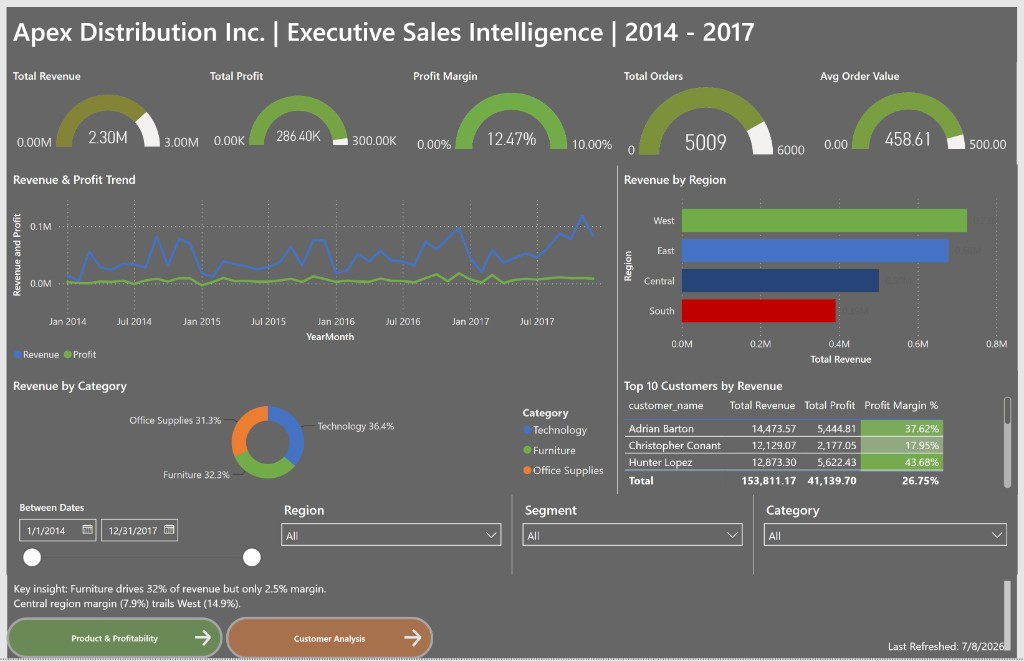

This screenshot's page, from the dashboard's own definition file:
{"tool":"powerbi","page":{"name":"Executive Overview","canvas":[1280,825],"ordinal":1},"visuals":[{"type":"cardVisual","title":"Total Revenue","fields":{"Data":["measure table.Total Revenue"]},"box":[9.7,80.2,245.1,128.7],"z":0},{"type":"cardVisual","title":"Total Revenue","fields":{"Data":["measure table.Total Profit"]},"box":[254.8,80.2,253.9,128.7],"z":1000},{"type":"cardVisual","title":"Total Revenue","fields":{"Data":["measure table.Profit Margin %"]},"box":[508.7,80.2,262.7,127.8],"z":2000},{"type":"cardVisual","title":"Total Revenue","fields":{"Data":["measure table.Total Orders"]},"box":[771.3,80.2,246,127.8],"z":2001},{"type":"cardVisual","title":"Total Revenue","fields":{"Data":["measure table.Avg Order Value"]},"box":[1017.3,80.2,253,128.7],"z":2002},{"type":"lineChart","title":"Revenue & Profit Trend","fields":{"Category":["Dim Date.YearMonth"],"Y":["measure table.Total Revenue","measure table.Total Profit"]},"box":[9.7,208,761.7,258.3],"z":2003},{"type":"clusteredBarChart","title":"Revenue by Region","fields":{"Category":["sales_executive.region"],"Y":["measure table.Total Revenue"]},"box":[771.3,208,499,258.3],"z":2004},{"type":"donutChart","title":"Revenue by Category","fields":{"Category":["sales_executive.category"],"Y":["measure table.Total Revenue"]},"box":[9.7,465.5,761.7,154.3],"z":2005},{"type":"tableEx","title":"Top 10 Customers by Revenue","fields":{"Values":["sales_executive.customer_name","measure table.Total Revenue","measure table.Total Profit","measure table.Profit Margin %"]},"box":[771.3,465.5,499,154.3],"z":2006},{"type":"slicer","fields":{"Values":["Dim Date.Date"]},"box":[9.7,619.7,329.7,100.5],"z":2007},{"type":"slicer","fields":{"Values":["sales_executive.region"]},"box":[339.4,619.7,300.6,100.5],"z":2008},{"type":"slicer","fields":{"Values":["sales_executive.segment"]},"box":[640,619.7,300.6,100.5],"z":2009},{"type":"slicer","fields":{"Values":["sales_executive.category"]},"box":[940.6,619.7,329.7,100.5],"z":2010},{"type":"textbox","box":[9.7,11.5,1260.6,68.8],"z":2011},{"type":"textbox","box":[10.2,720.3,1259.7,104.7],"z":2012},{"type":"actionButton","title":"Executive Overview","box":[9.3,774,269.7,51],"z":2013},{"type":"actionButton","title":"Executive Overview","box":[282.7,773.1,258.6,52.8],"z":2014}]}

Visuals, with their boxes in screenshot pixels (x1, y1, x2, y2), scaled from the page's 1280x825 canvas onto the 1024x661 screenshot:
"Total Revenue" cardVisual: [x1=8, y1=64, x2=204, y2=167]
"Total Revenue" cardVisual: [x1=204, y1=64, x2=407, y2=167]
"Total Revenue" cardVisual: [x1=407, y1=64, x2=617, y2=167]
"Total Revenue" cardVisual: [x1=617, y1=64, x2=814, y2=167]
"Total Revenue" cardVisual: [x1=814, y1=64, x2=1016, y2=167]
"Revenue & Profit Trend" lineChart: [x1=8, y1=167, x2=617, y2=374]
"Revenue by Region" clusteredBarChart: [x1=617, y1=167, x2=1016, y2=374]
"Revenue by Category" donutChart: [x1=8, y1=373, x2=617, y2=497]
"Top 10 Customers by Revenue" tableEx: [x1=617, y1=373, x2=1016, y2=497]
slicer - Dim Date.Date: [x1=8, y1=497, x2=272, y2=577]
slicer - sales_executive.region: [x1=272, y1=497, x2=512, y2=577]
slicer - sales_executive.segment: [x1=512, y1=497, x2=752, y2=577]
slicer - sales_executive.category: [x1=752, y1=497, x2=1016, y2=577]
textbox: [x1=8, y1=9, x2=1016, y2=64]
textbox: [x1=8, y1=577, x2=1016, y2=660]
"Executive Overview" actionButton: [x1=7, y1=620, x2=223, y2=660]
"Executive Overview" actionButton: [x1=226, y1=619, x2=433, y2=660]
